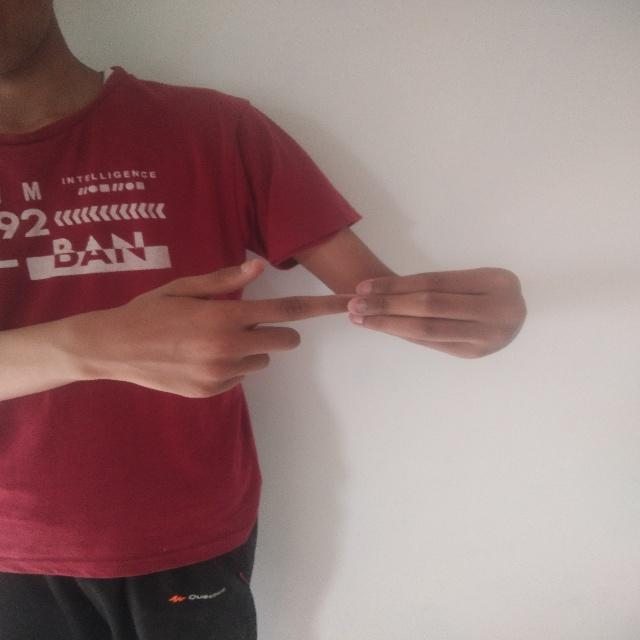Five Fathers: (97, 252, 532, 402)
